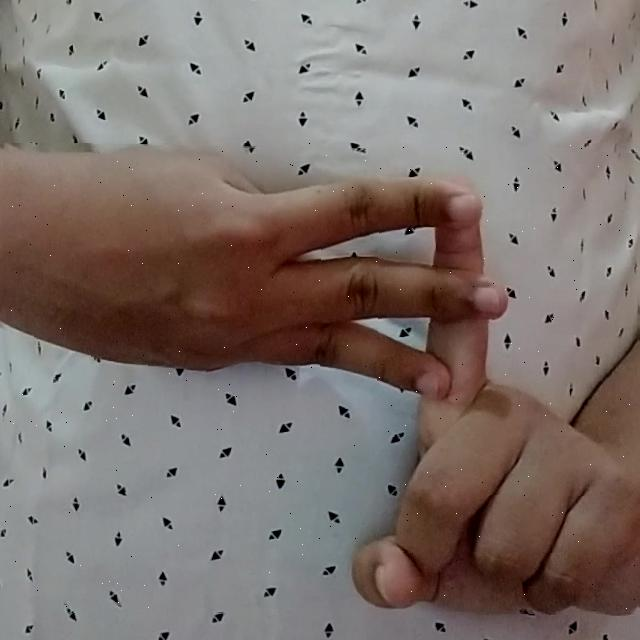B: (1, 144, 639, 613)
